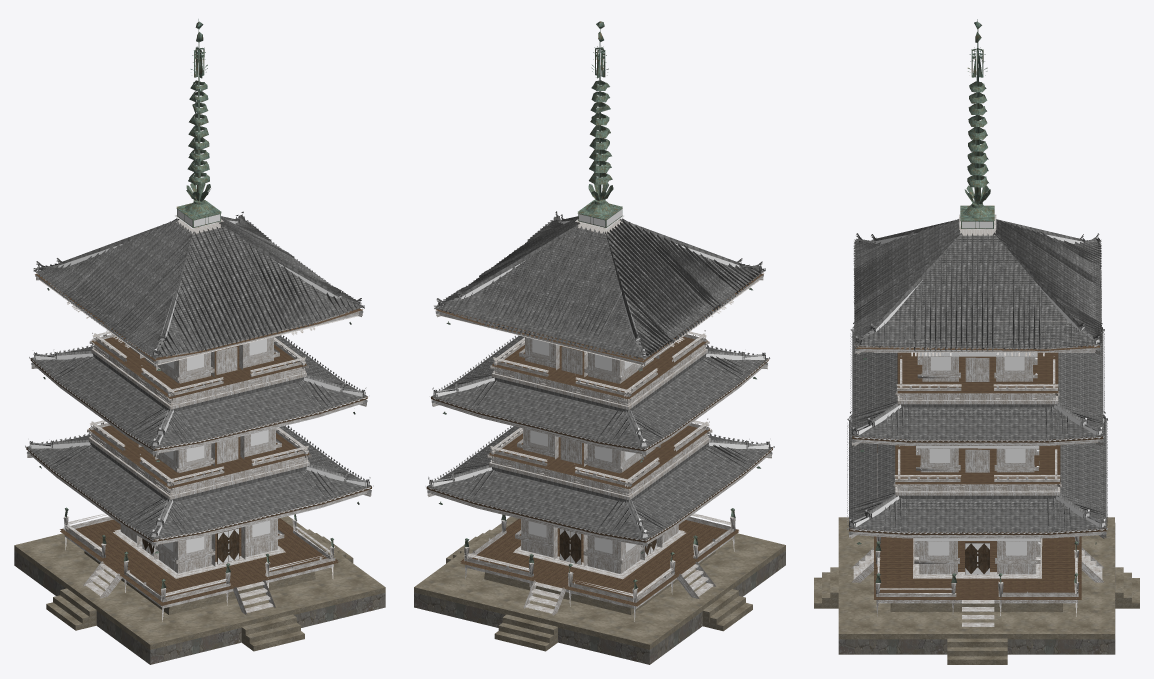
The model's file is Pagoda_Sanju_33m.gltf.
3 views of the same model, side by side, from view 1: azimuth 30°, elevation 25°; view 2: azimuth 150°, elevation 25°; view 3: azimuth 270°, elevation 25° (orthographic).
Visible parts, largest first — view 1: Base_LOD0, Roof3_LOD0, Roof1_LOD0, Roof2_LOD0, Wall1_LOD0, Sorin_LOD0, Wall3_LOD0, Wall2_LOD0; view 2: Base_LOD0, Roof3_LOD0, Roof1_LOD0, Roof2_LOD0, Wall1_LOD0, Sorin_LOD0, Wall3_LOD0, Wall2_LOD0; view 3: Base_LOD0, Roof3_LOD0, Roof1_LOD0, Roof2_LOD0, Wall1_LOD0, Sorin_LOD0, Wall3_LOD0, Wall2_LOD0.
Boxes of the visible parts, x1,y1,x2,y2 form: Base_LOD0: (14, 507, 385, 664); Roof3_LOD0: (33, 211, 364, 365); Roof1_LOD0: (25, 420, 373, 545); Roof2_LOD0: (29, 331, 367, 454); Wall1_LOD0: (27, 454, 371, 578); Sorin_LOD0: (176, 19, 221, 227); Wall3_LOD0: (36, 276, 362, 383); Wall2_LOD0: (31, 365, 366, 472); Base_LOD0: (414, 508, 785, 664); Roof3_LOD0: (434, 211, 765, 365); Roof1_LOD0: (425, 418, 774, 545); Roof2_LOD0: (429, 330, 769, 454); Wall1_LOD0: (427, 454, 771, 579); Sorin_LOD0: (577, 21, 622, 227); Wall3_LOD0: (436, 276, 763, 383); Wall2_LOD0: (432, 365, 767, 473); Base_LOD0: (814, 517, 1139, 664); Roof3_LOD0: (853, 214, 1101, 356); Roof1_LOD0: (847, 411, 1108, 538); Roof2_LOD0: (850, 322, 1104, 445); Wall1_LOD0: (849, 444, 1106, 578); Sorin_LOD0: (960, 19, 994, 228); Wall3_LOD0: (855, 349, 1099, 381); Wall2_LOD0: (852, 441, 1103, 472).
Size of the model in its own units: 16.16 by 31.88 by 16.18.
14 materials, 13 textured.
